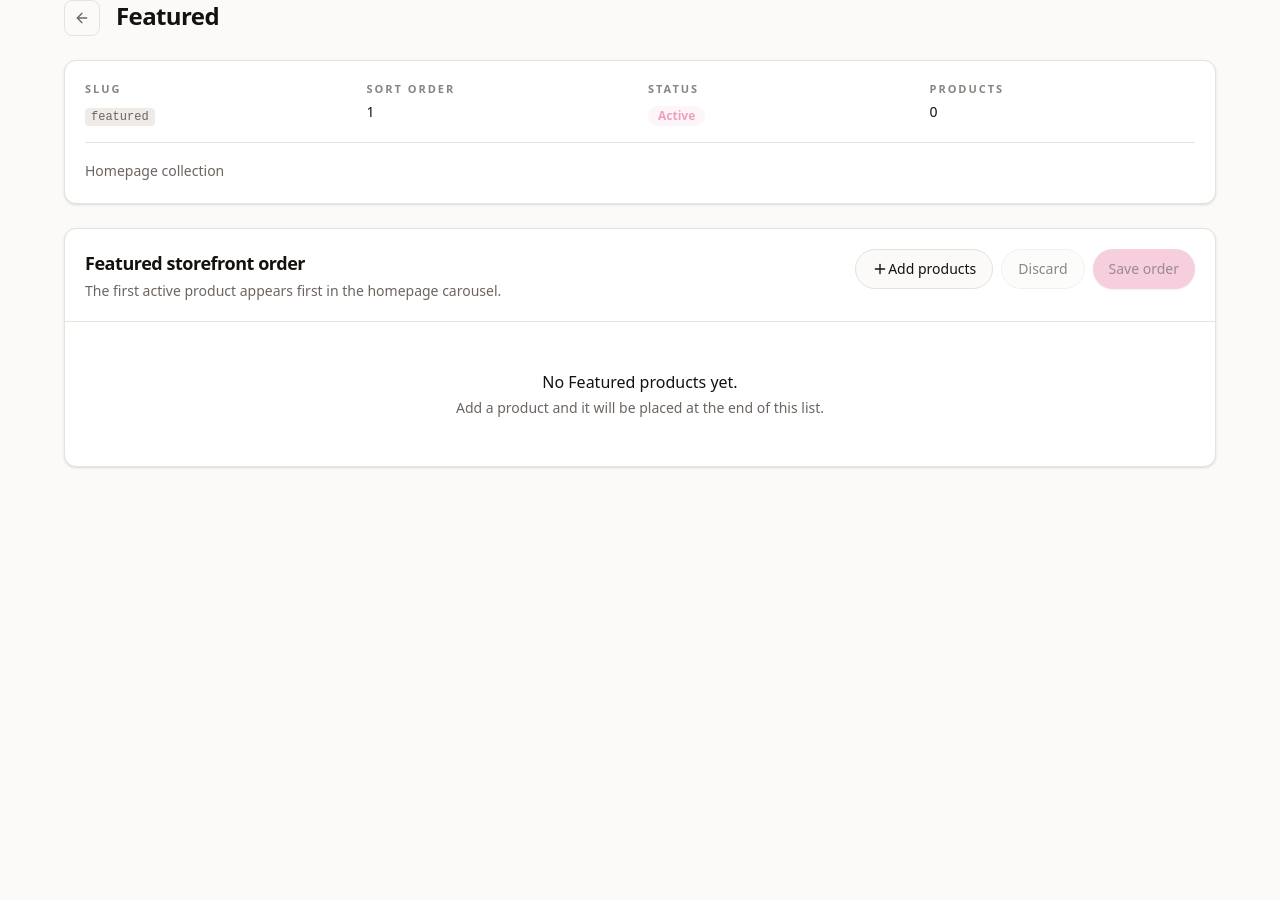
Test: AdminCollectionDetailPageClient › restarts pagination for debounced search without appending a stale previous page
Click the button "Add products" at coordinates (924, 268), box [855,248,993,288]
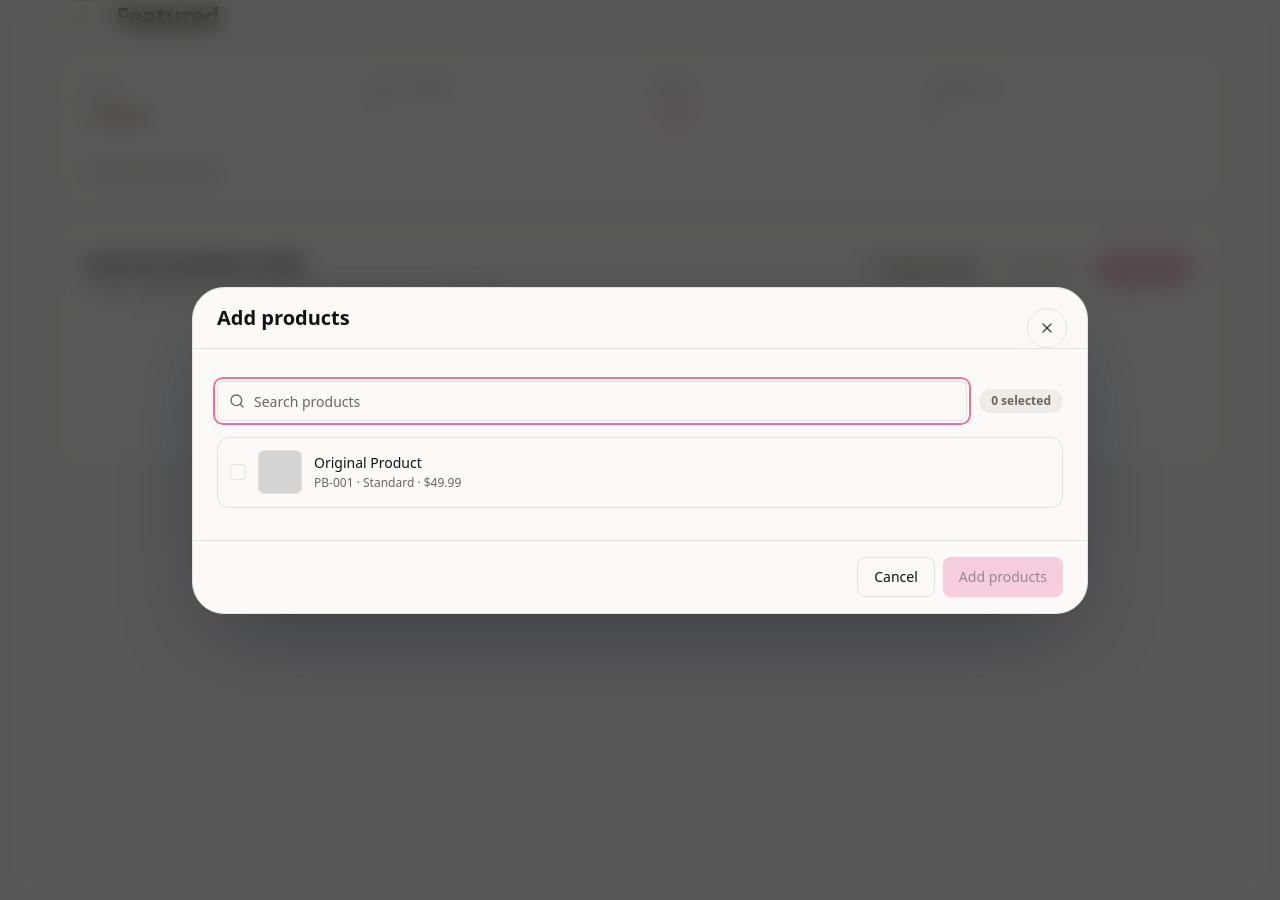
Click the checkbox named "Select Original Product" at coordinates (238, 472), box [230,464,246,480]
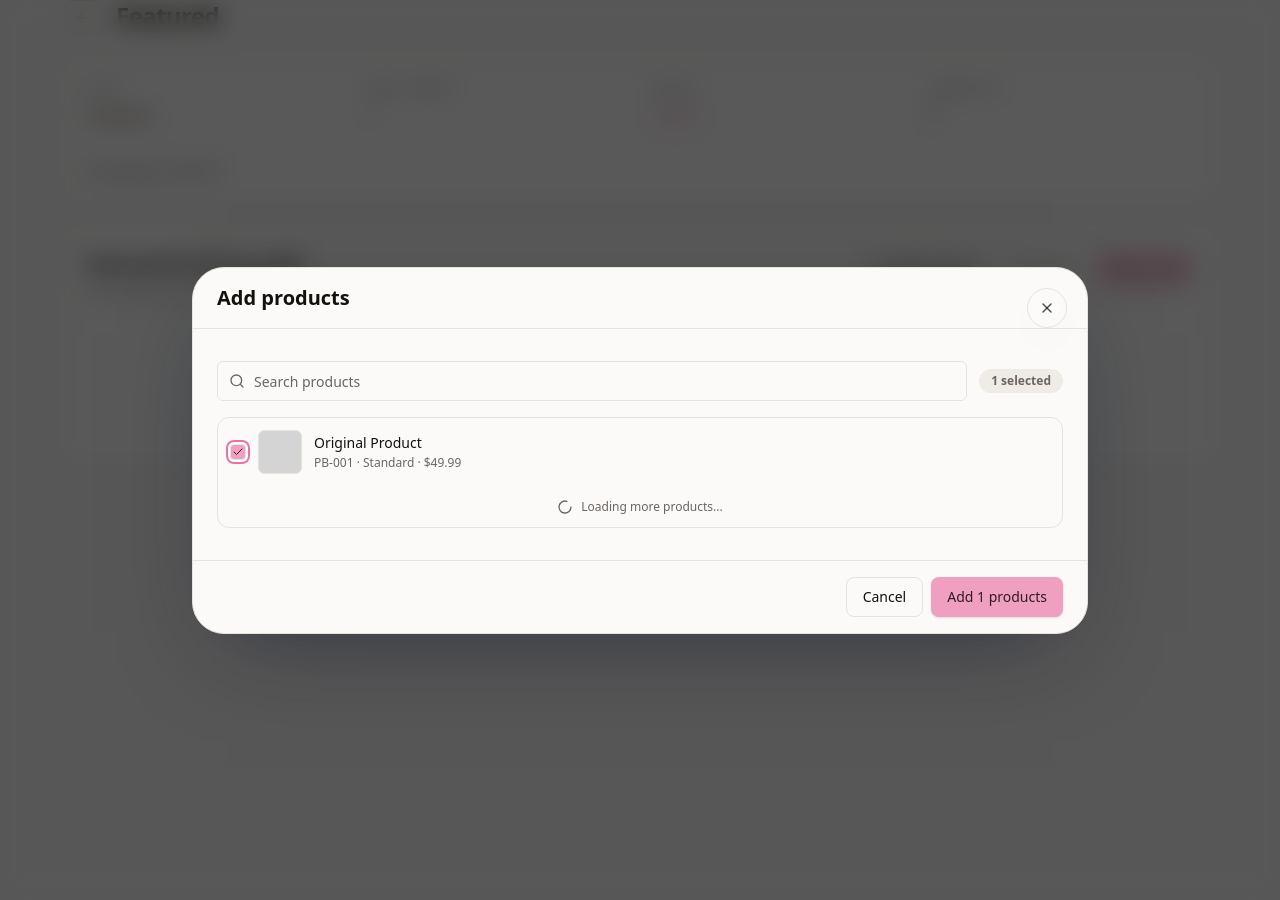
Type "hero" into the field labelled "Search products" at coordinates (592, 380), box [217,360,967,400]
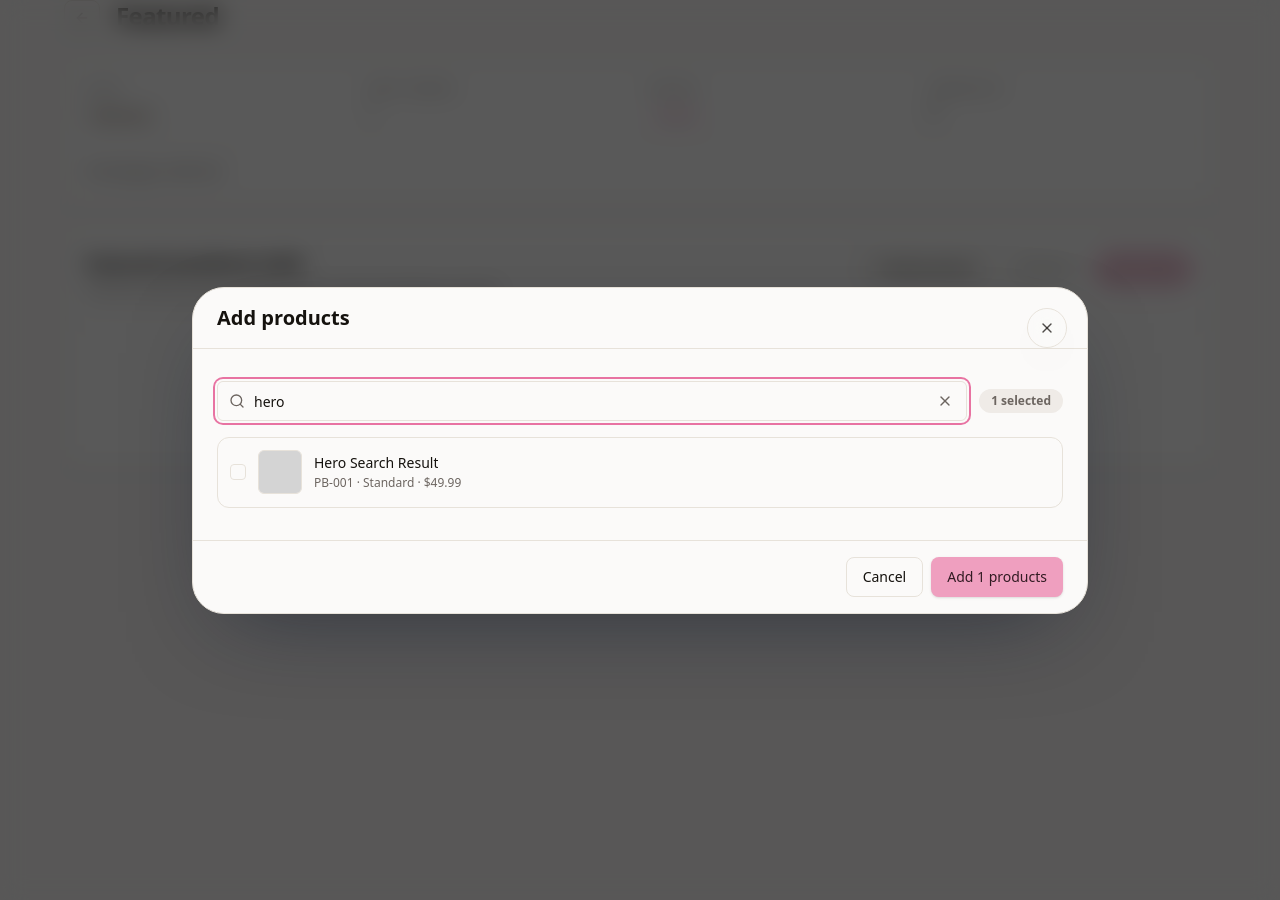
Expected: the text "1 selected" is shown, [979,388,1063,412]
Expected: the text "Hero Search Result" is shown, [314,452,438,472]
Expected: the text "Original Product" is gone
